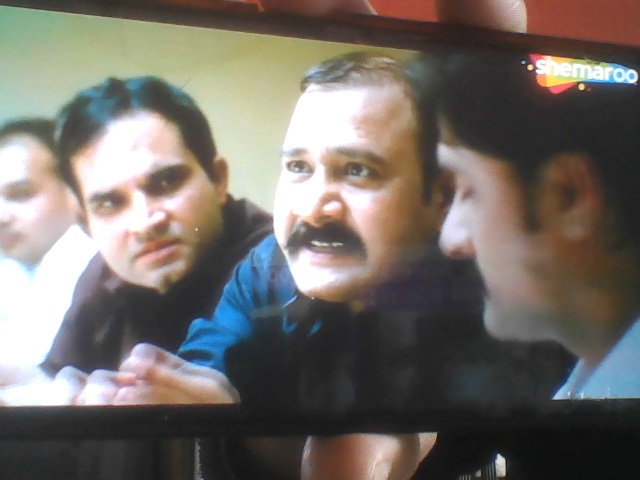fake: (250, 17, 466, 323), (73, 77, 229, 298)
